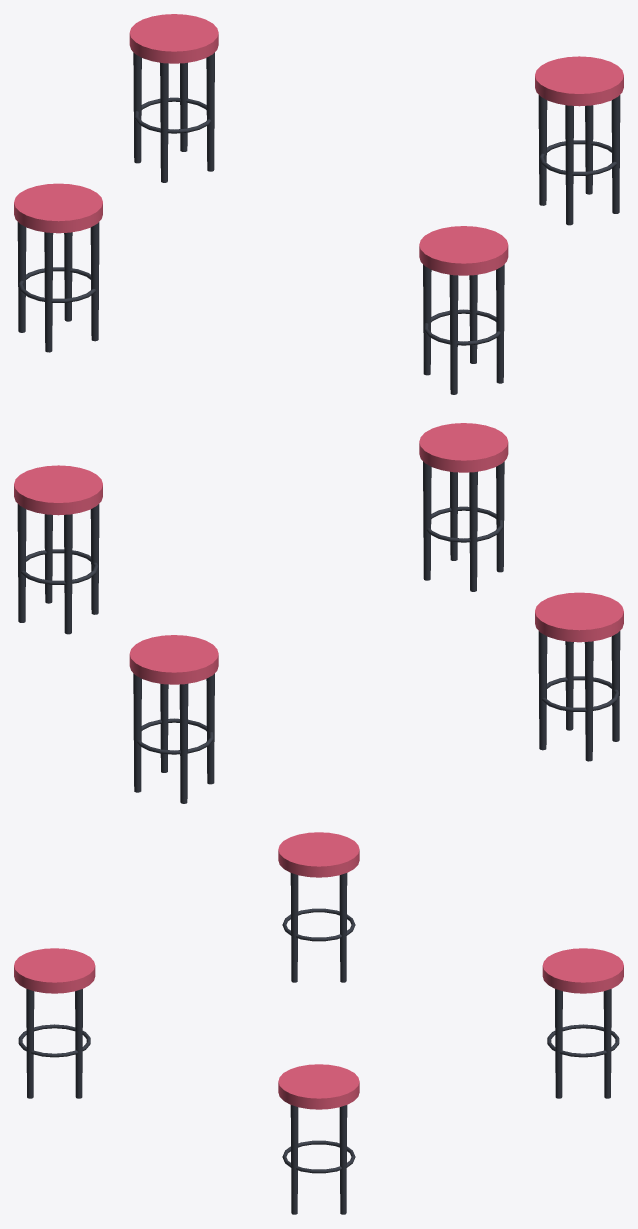
The model's file is kchair-stool.glb.
3 views of the same model, one above another, from view 1: azimuth 30°, elevation 25°; view 2: azimuth 150°, elevation 25°; view 3: azimuth 270°, elevation 25° (orthographic). The views are drawn at different scales.
Size of the model in its own units: 3.1 by 0.66 by 3.
